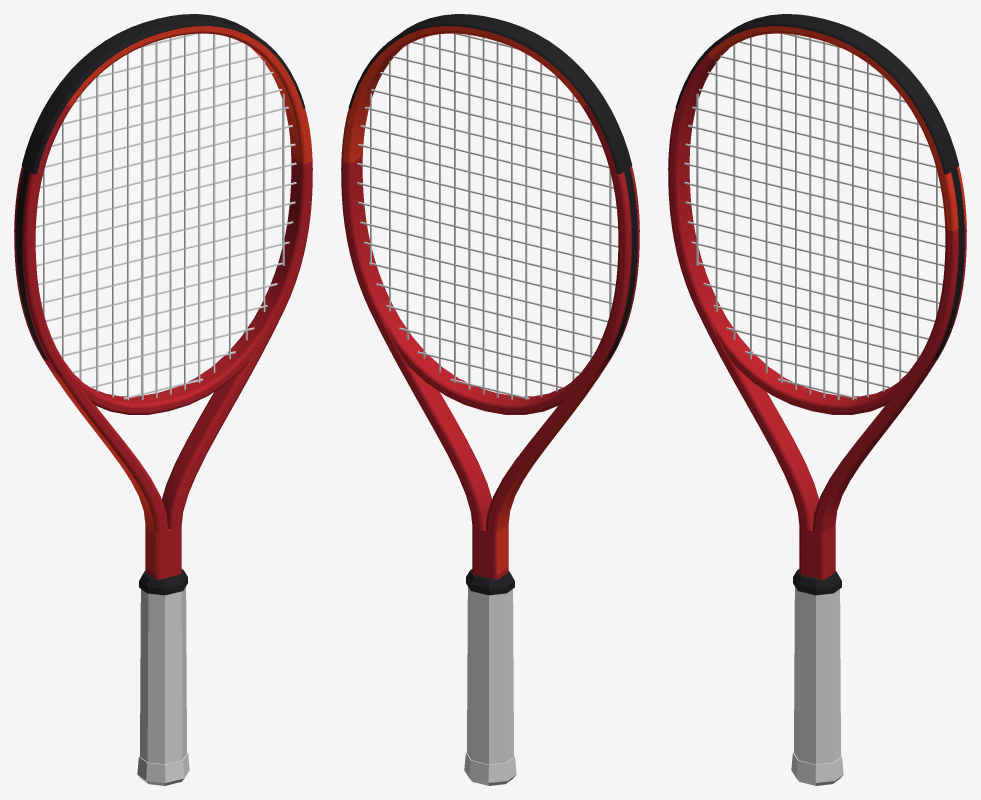
File: dunlop-cx-200-os-2027.glb
The picture shows the model from 3 angles, left to right: view 1: azimuth 30°, elevation 25°; view 2: azimuth 150°, elevation 25°; view 3: azimuth 330°, elevation 25°; orthographic projection.
Parts seen in each view (by area): view 1: frame, strings_mains, strings_crosses, grip, bumper, grommets, butt_cap, collar; view 2: frame, strings_mains, strings_crosses, grip, bumper, grommets, butt_cap, collar; view 3: frame, strings_mains, strings_crosses, grip, bumper, grommets, butt_cap, collar.
Part boxes in pixels (x1,y1,x2,y2): frame: (14,26,312,579); strings_mains: (43,33,284,400); strings_crosses: (35,33,296,399); grip: (140,587,186,764); bumper: (21,14,305,174); grommets: (16,168,48,361); butt_cap: (137,752,189,785); collar: (139,569,187,595); frame: (341,26,639,579); strings_mains: (370,34,611,399); strings_crosses: (357,33,618,399); grip: (467,587,513,764); bumper: (348,14,632,174); grommets: (605,168,637,361); butt_cap: (464,752,516,785); collar: (466,569,514,595); frame: (668,26,966,579); strings_mains: (696,33,937,400); strings_crosses: (684,33,945,399); grip: (794,587,840,764); bumper: (675,14,959,174); grommets: (932,168,964,361); butt_cap: (791,752,843,785); collar: (793,569,841,595).
Size of the model in its own units: 0.2747 by 0.6861 by 0.0377.
